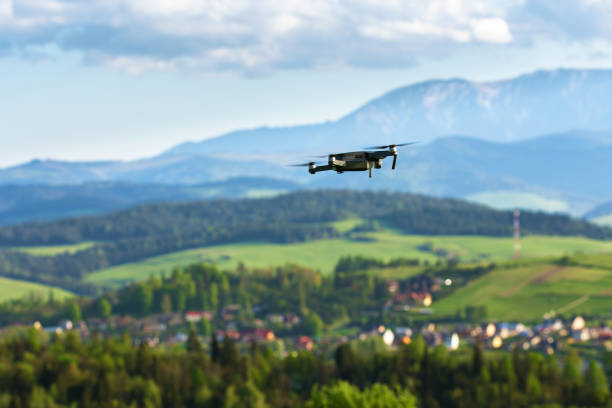Drone: (287, 138, 417, 179)
